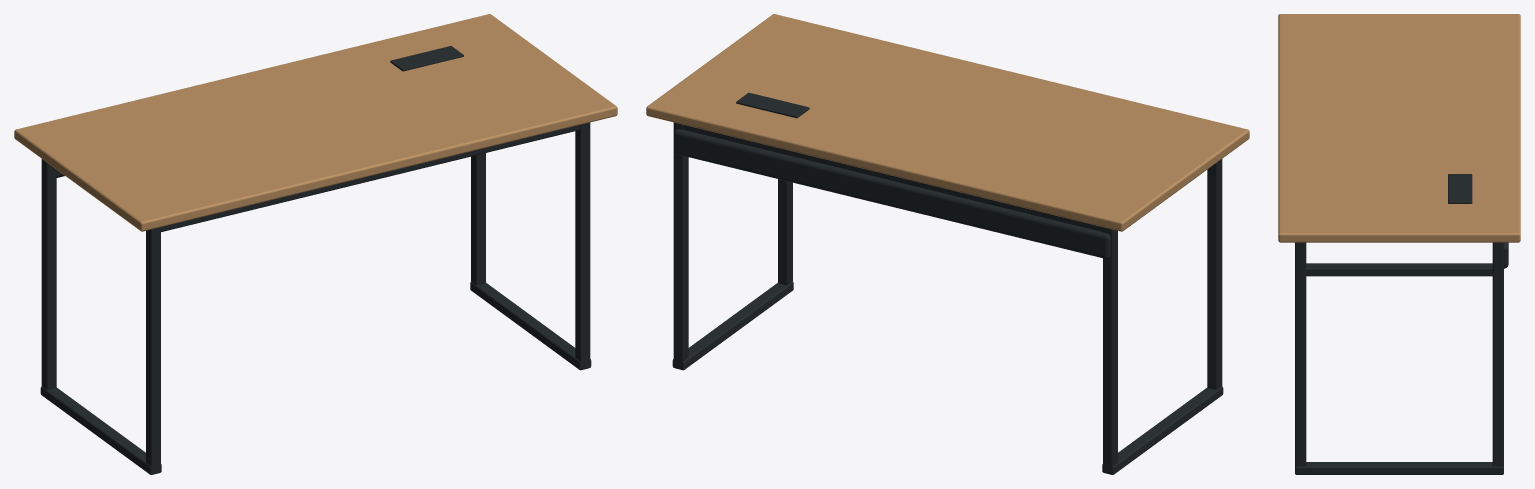
Rendered from workDesk-2.glb.
The picture shows the model from 3 angles, left to right: view 1: azimuth 30°, elevation 25°; view 2: azimuth 150°, elevation 25°; view 3: azimuth 270°, elevation 25°; orthographic projection. The views are drawn at different scales.
Visible parts, largest first — view 1: workDesk:2:archviz; view 2: workDesk:2:archviz; view 3: workDesk:2:archviz.
Part boxes in pixels (bbox=[...]): workDesk:2:archviz: bbox=[14, 14, 617, 474]; workDesk:2:archviz: bbox=[646, 14, 1249, 474]; workDesk:2:archviz: bbox=[1278, 14, 1520, 474].
Bounding box in the file's own units: 1.4 × 0.7455 × 0.65.
